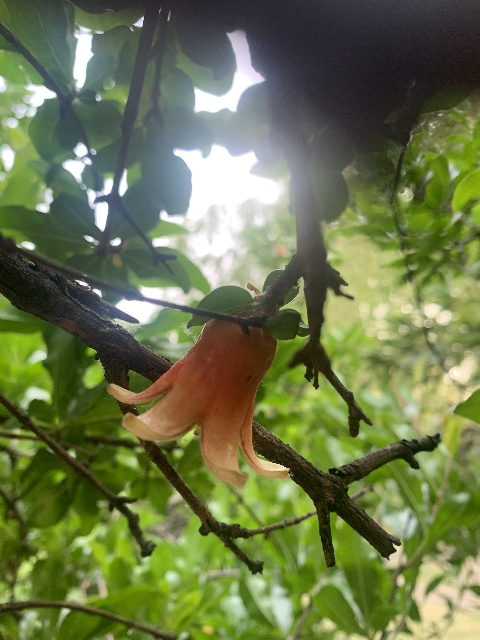flower: (107, 317, 289, 484)
